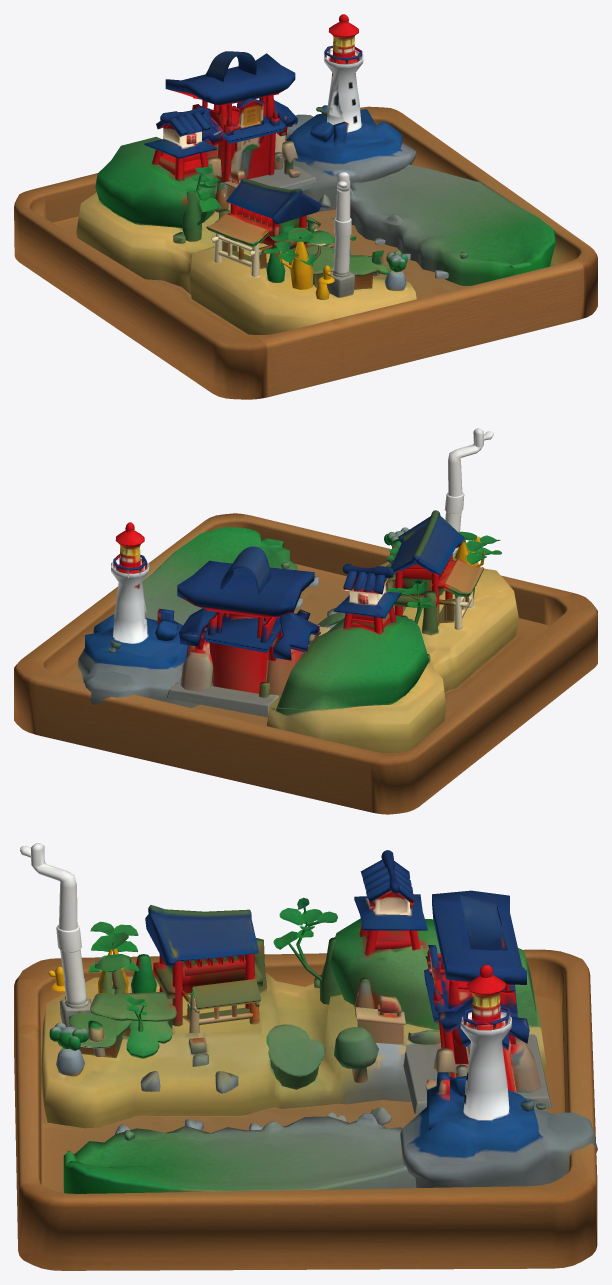
The model's file is enoshima.glb.
3 views of the same model, one above another, from view 1: azimuth 30°, elevation 25°; view 2: azimuth 150°, elevation 25°; view 3: azimuth 270°, elevation 25° (orthographic). The views are drawn at different scales.
Visible parts, largest first — view 1: tripo_node_6e388511-d3bd-45f6-a550-15f2371b99e3; view 2: tripo_node_6e388511-d3bd-45f6-a550-15f2371b99e3; view 3: tripo_node_6e388511-d3bd-45f6-a550-15f2371b99e3.
Part boxes in pixels (bbox=[...]): tripo_node_6e388511-d3bd-45f6-a550-15f2371b99e3: bbox=[14, 14, 597, 399]; tripo_node_6e388511-d3bd-45f6-a550-15f2371b99e3: bbox=[14, 428, 597, 814]; tripo_node_6e388511-d3bd-45f6-a550-15f2371b99e3: bbox=[14, 843, 597, 1270].
Size of the model in its own units: 0.9995 by 0.4809 by 0.978.
Materials: 1 (1 with a texture image).
